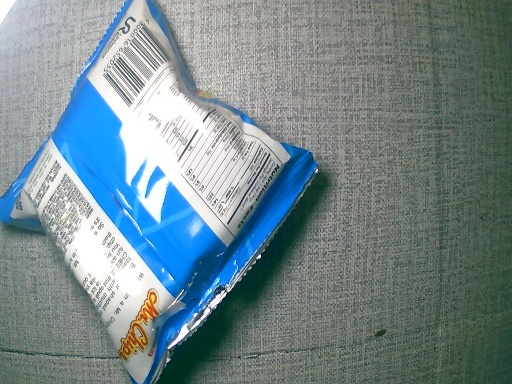plastic: (1, 1, 324, 384)
